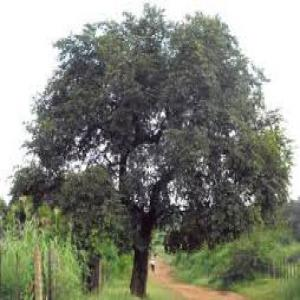Tree: (13, 8, 288, 294)
